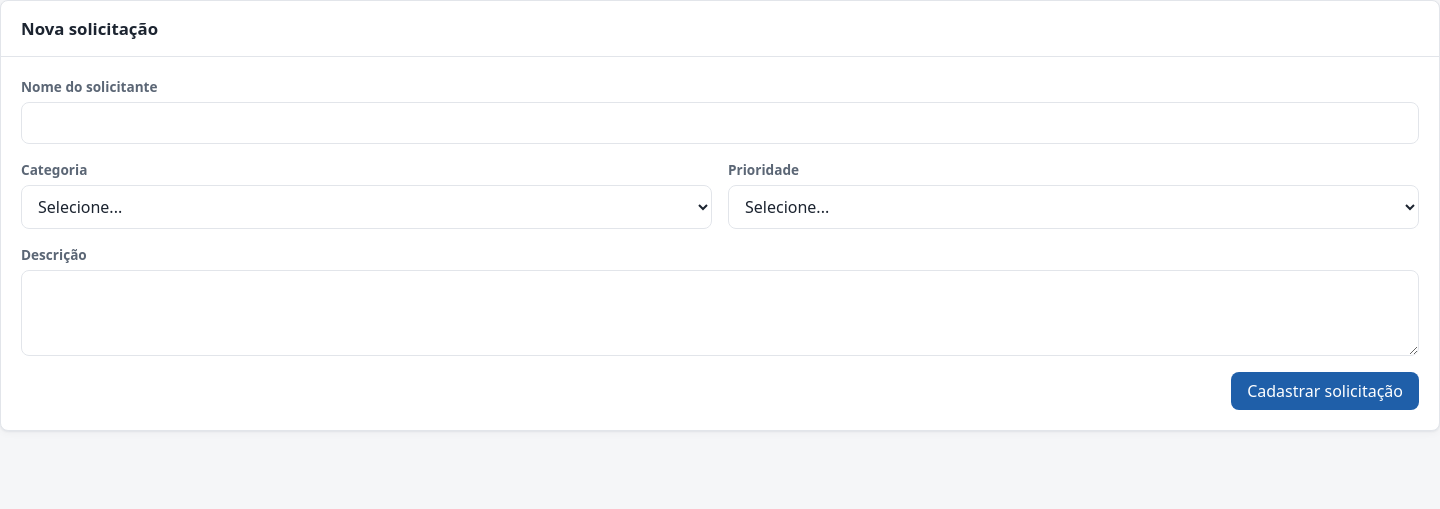
Test: FormularioSolicitacao › aviso de sucesso › sai da tela quando a pessoa comeca a preencher de novo
Type "Maria Ficticia" into the field labelled "Nome do solicitante" at (720, 123), box left=21, top=102, right=1419, bottom=144
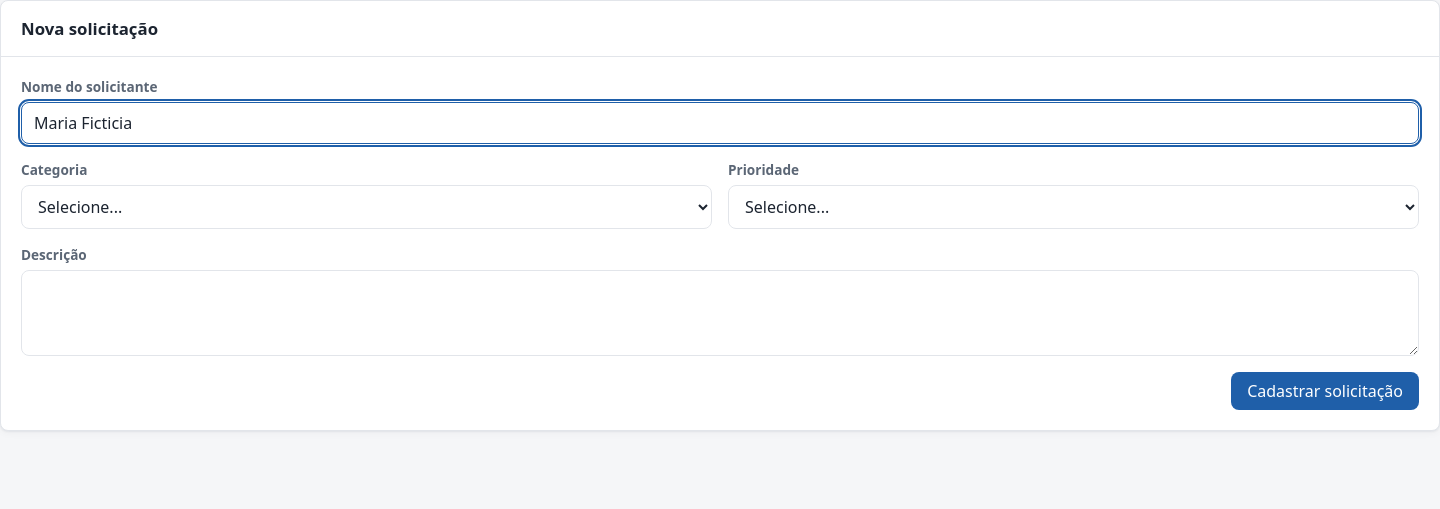
Select "Consulta" in the dropdown labelled "Categoria" at (366, 207), box left=21, top=185, right=712, bottom=229
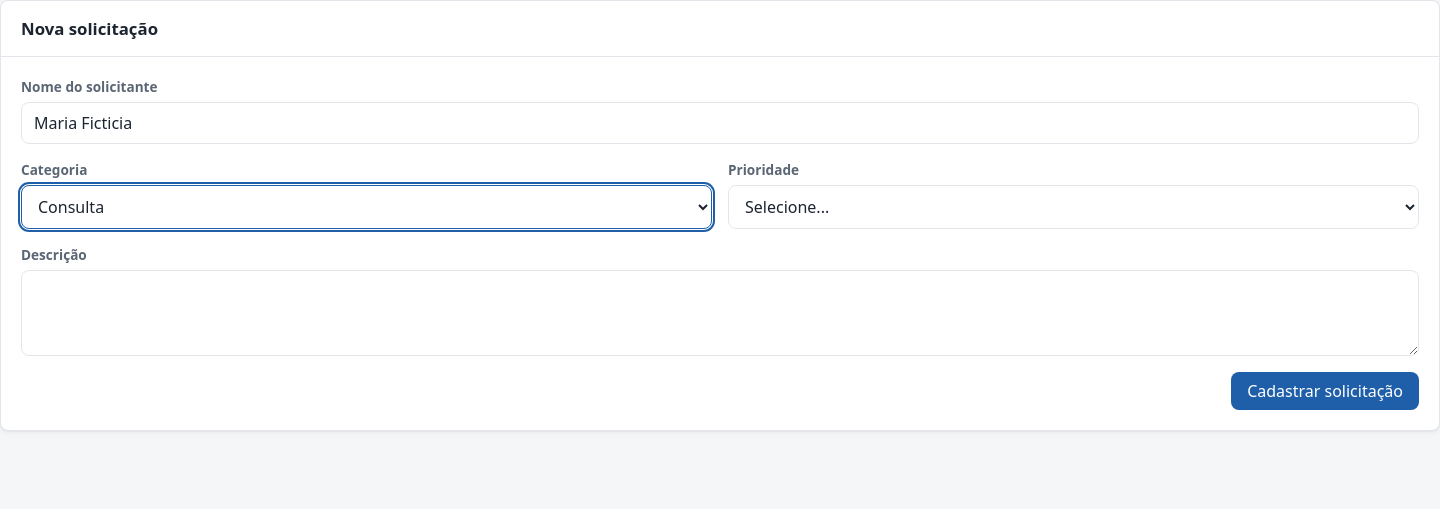
Select "Média" in the dropdown labelled "Prioridade" at (1074, 207), box left=728, top=185, right=1419, bottom=229
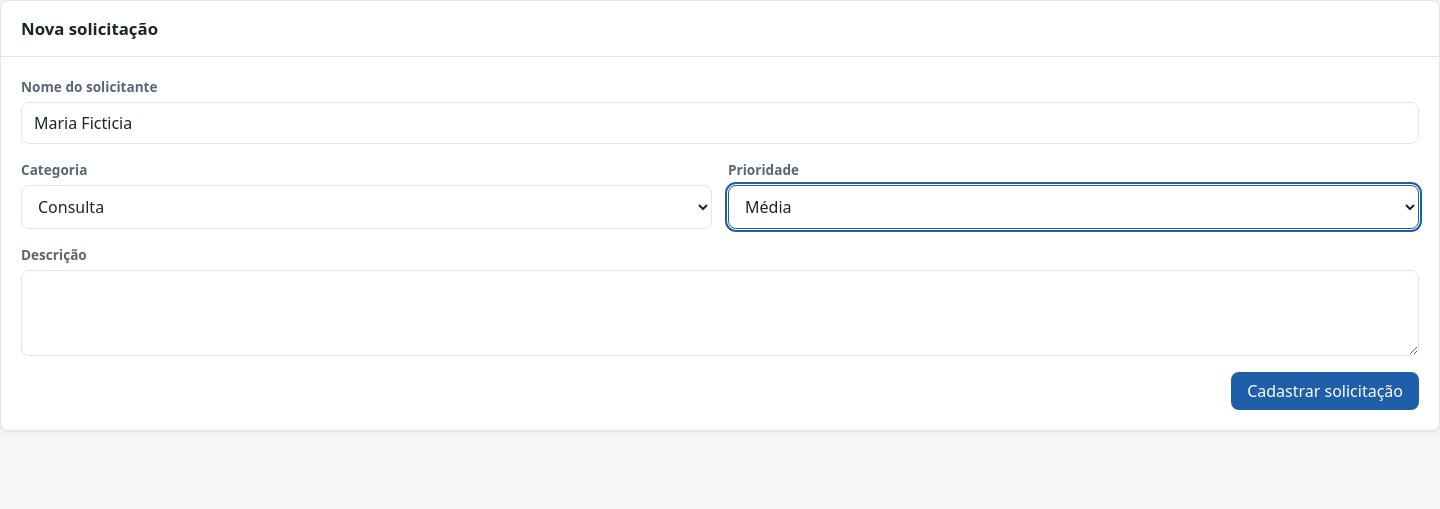
Type "Consulta de rotina." into the text box labelled "Descrição" at (720, 313), box left=21, top=270, right=1419, bottom=356
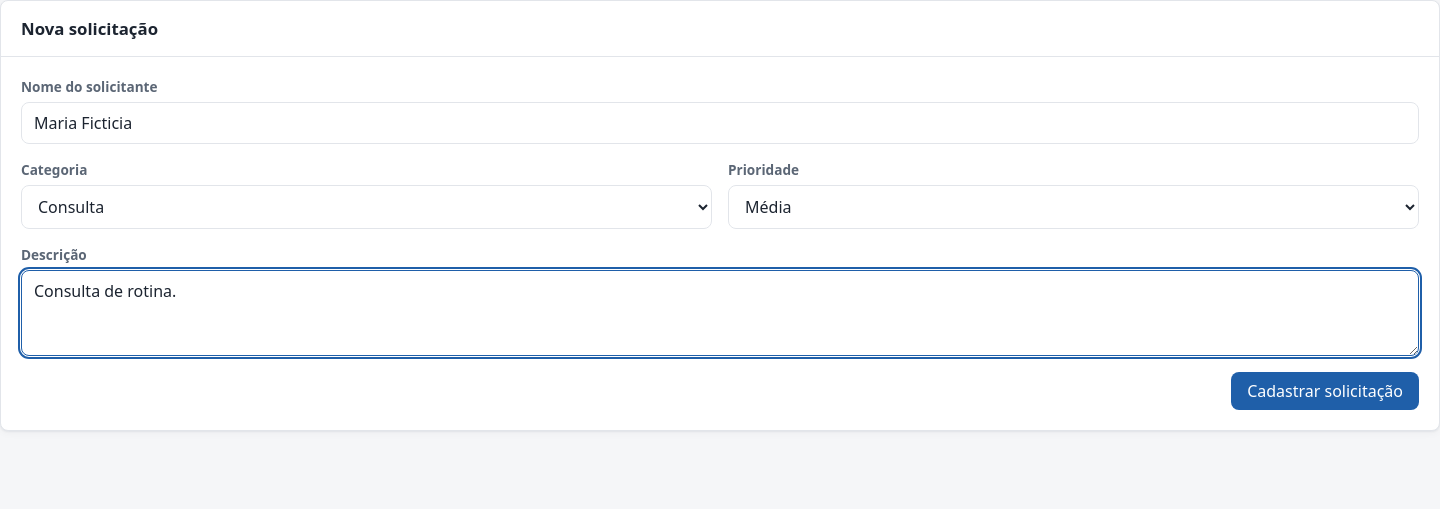
Click the button "Cadastrar solicitação" at (1325, 391), box left=1231, top=372, right=1419, bottom=410
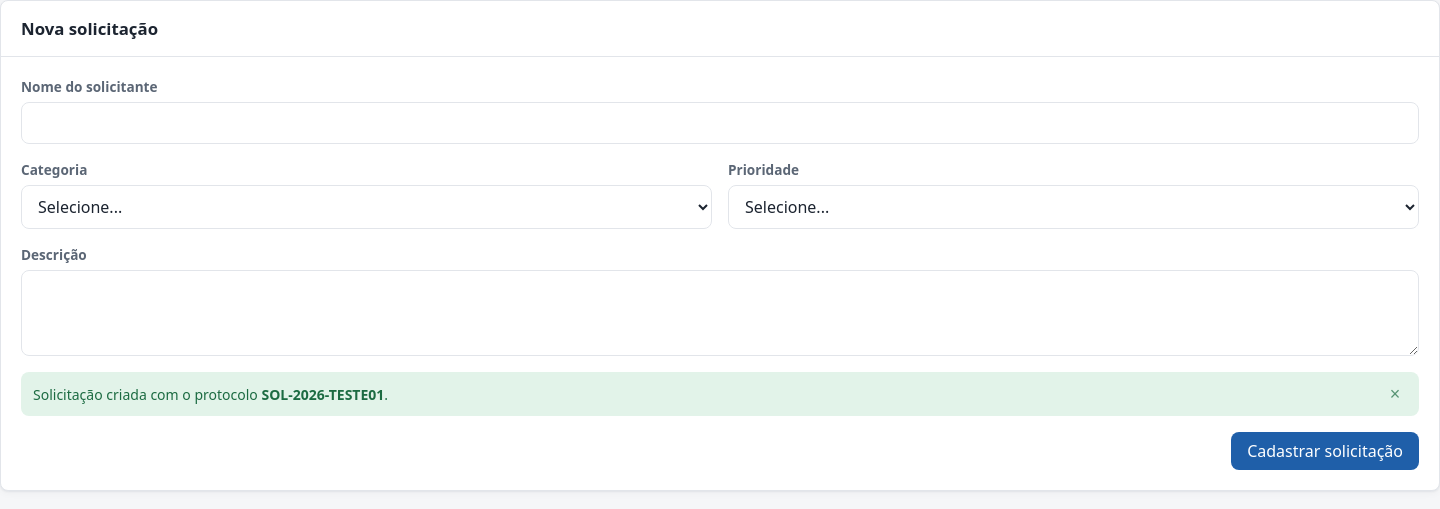
Check: the text "SOL-2026-TESTE01" is shown, box left=261, top=384, right=384, bottom=404
Type "J" into the field labelled "Nome do solicitante" at (720, 123), box left=21, top=102, right=1419, bottom=144
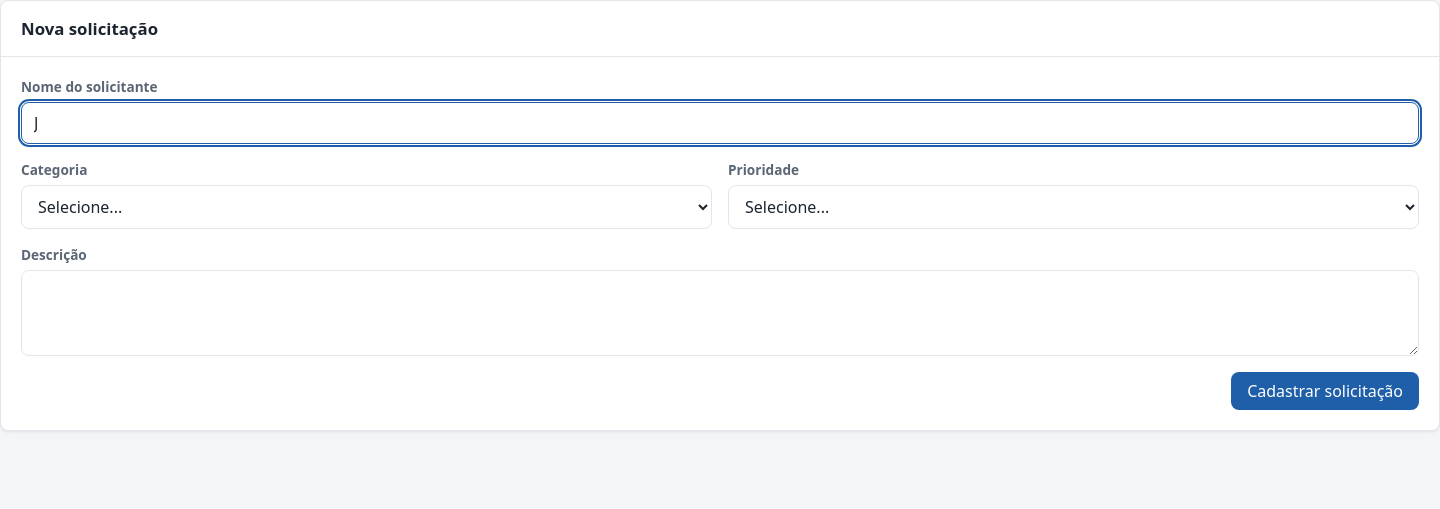
Check: the text "SOL-2026-TESTE01" is gone
